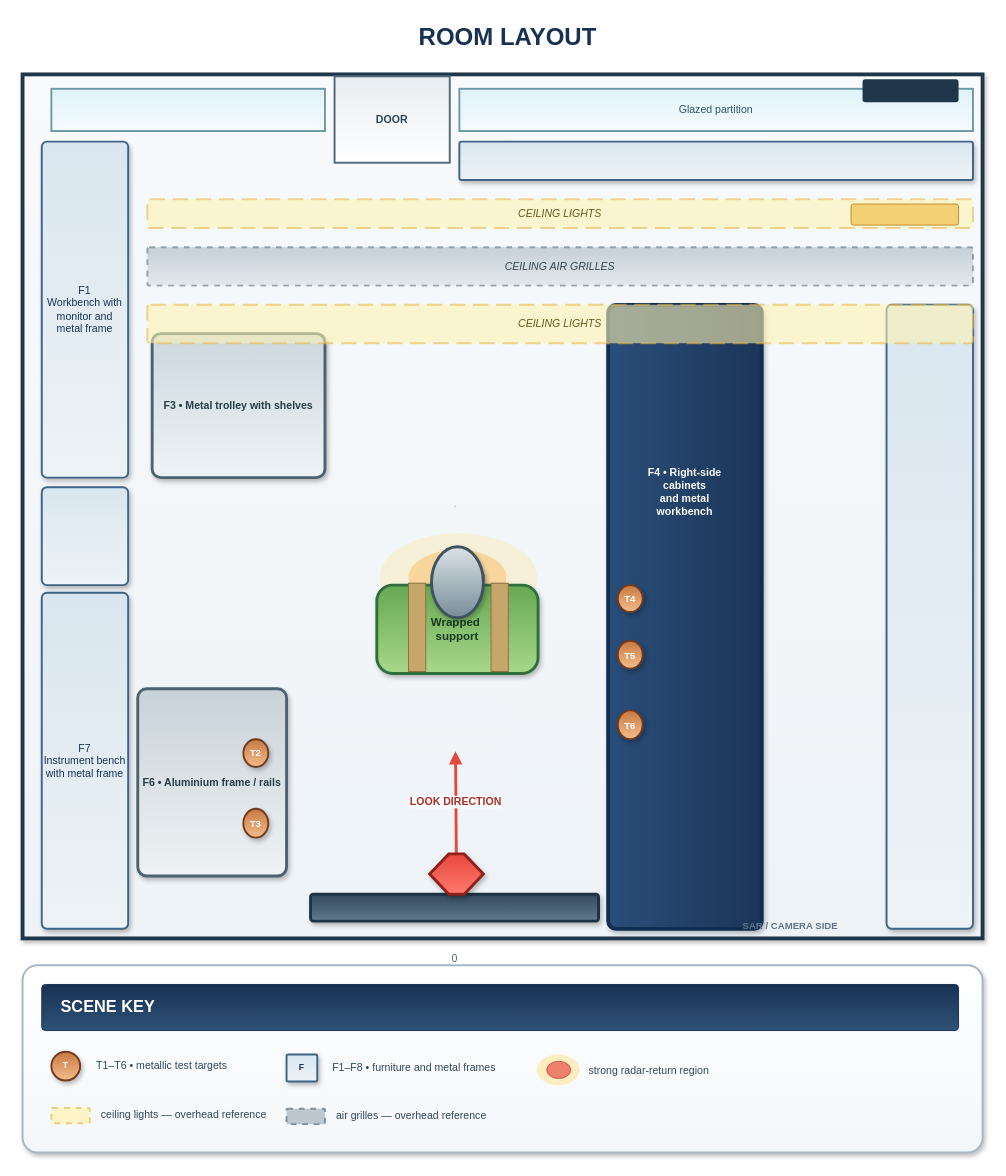
Image size: 1006x1176. Some labels were removed from this diagram. The shapes that lost their labels are listed below. From the top down, each one's centre as x and y in pixels, then its label:
At [187,109]: "Glazed partition / rear bench".
At [910,90]: "REAR WALL".
At [716,161]: "F2 • Central workbench / cabinet".
At [904,214]: "OVERHEAD LAYER".
At [85,537]: "F8 Measurement bench".
At [458,583]: "T1 Metal cylinder".
At [930,618]: "F5 Workbench with monitor, instruments and metal frame".
At [457,875]: "RADAR".
At [455,908]: "LINEAR SAR • ACQUISITION PATH".
